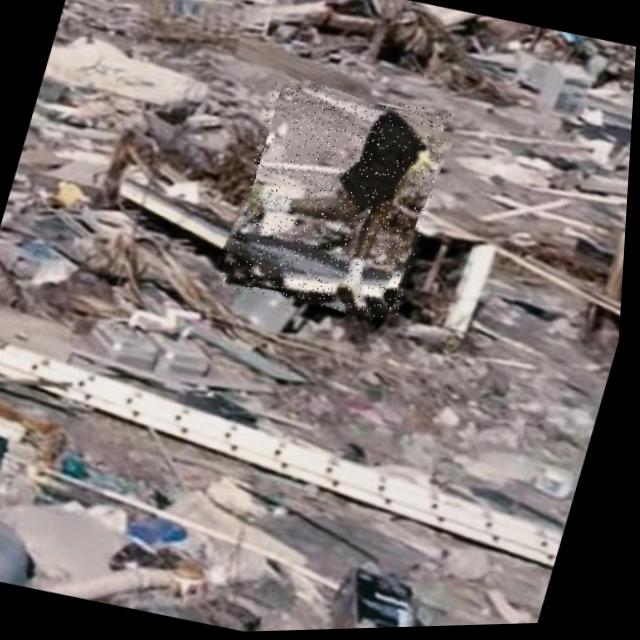Person in Rubble: (218, 75, 458, 328)
